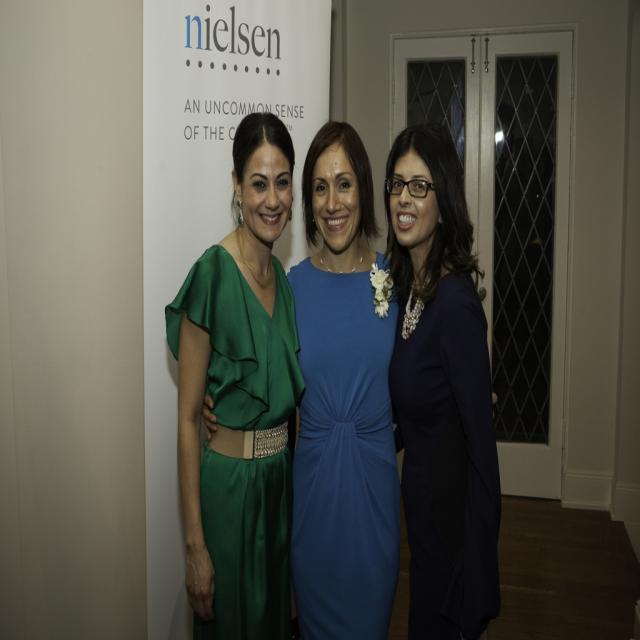Glasses: (386, 177, 434, 200)
